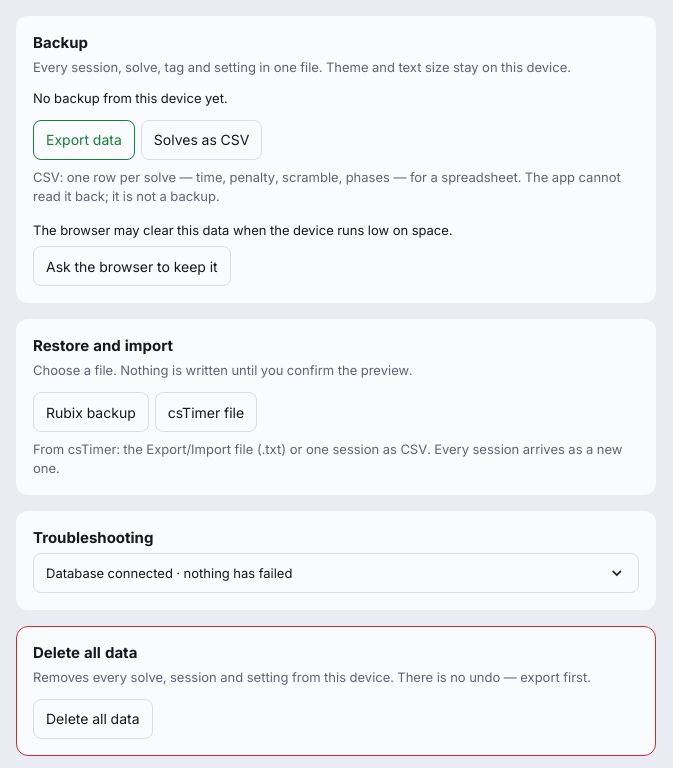
DataScreen › keeps the troubleshooting tools folded while nothing has failed
Expected: the button "Reconnect the database" is not shown
Click the button "Database connected · nothing has failed": (109, 573) [33,553,639,593]
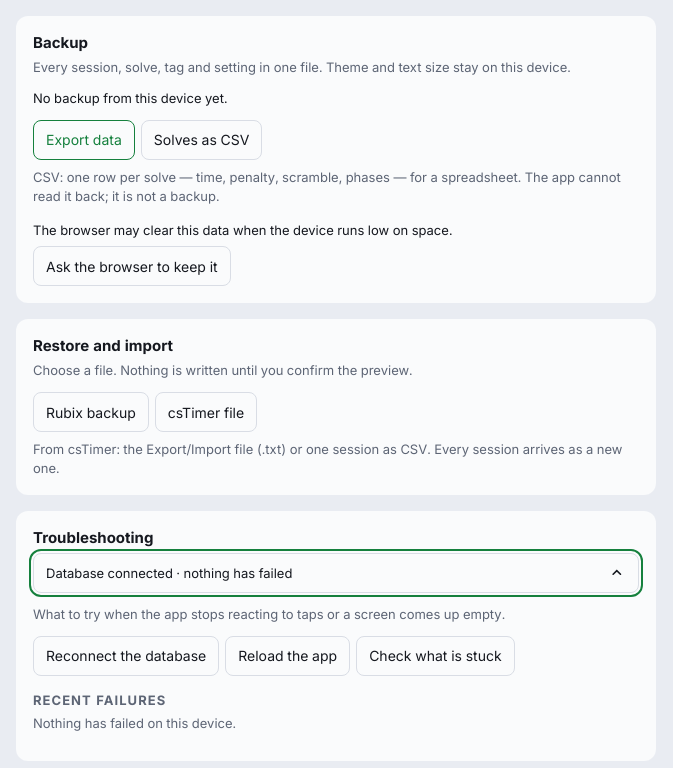
Now the button "Reconnect the database" is shown, box [33,636,219,676]
